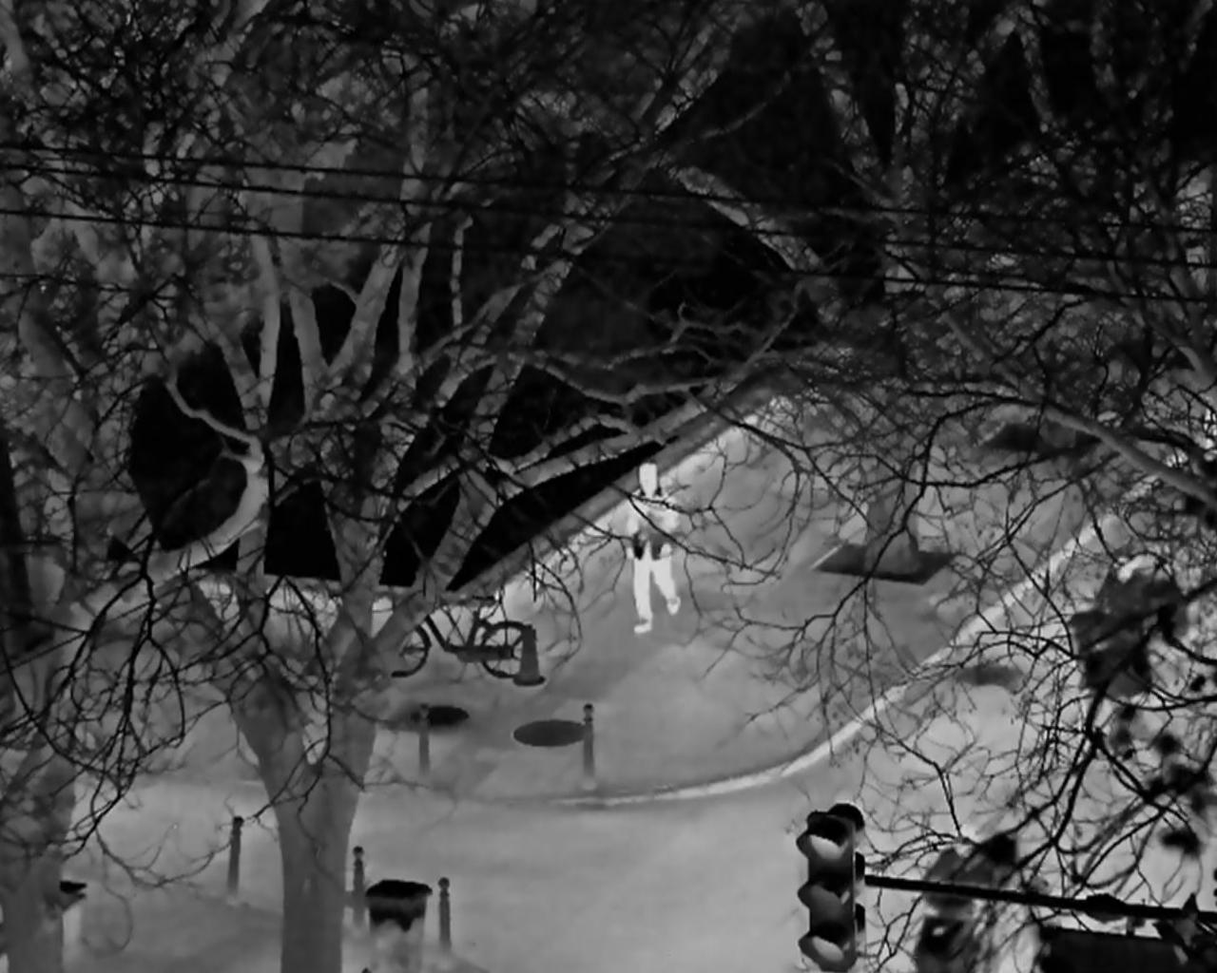person: (624, 461, 680, 635)
